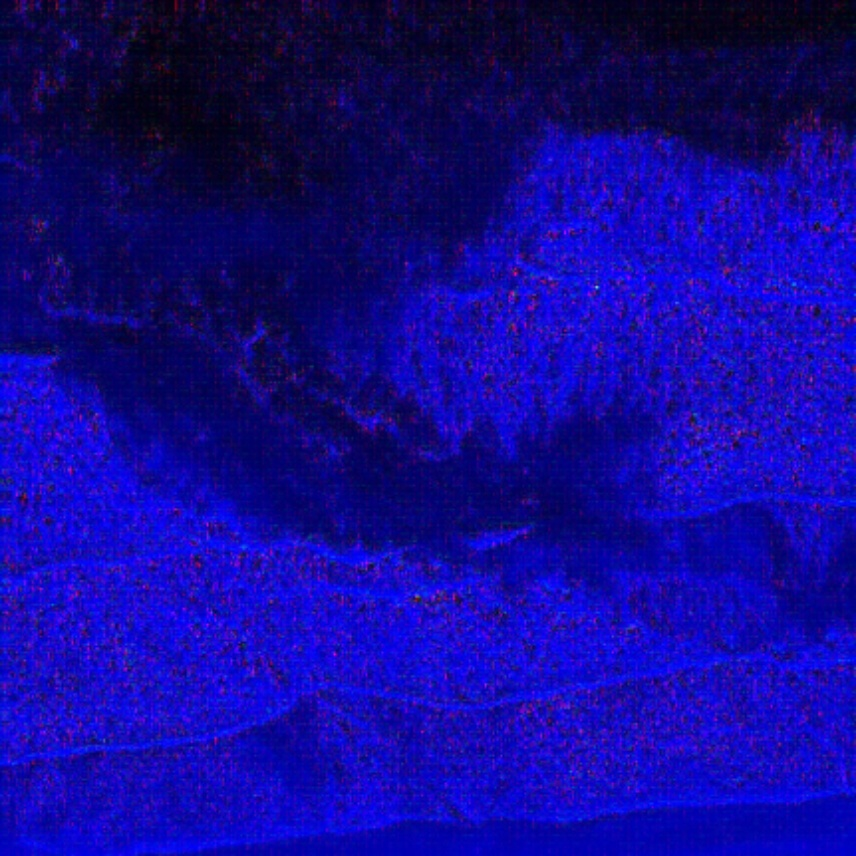rip_current: (34, 179, 748, 625)
